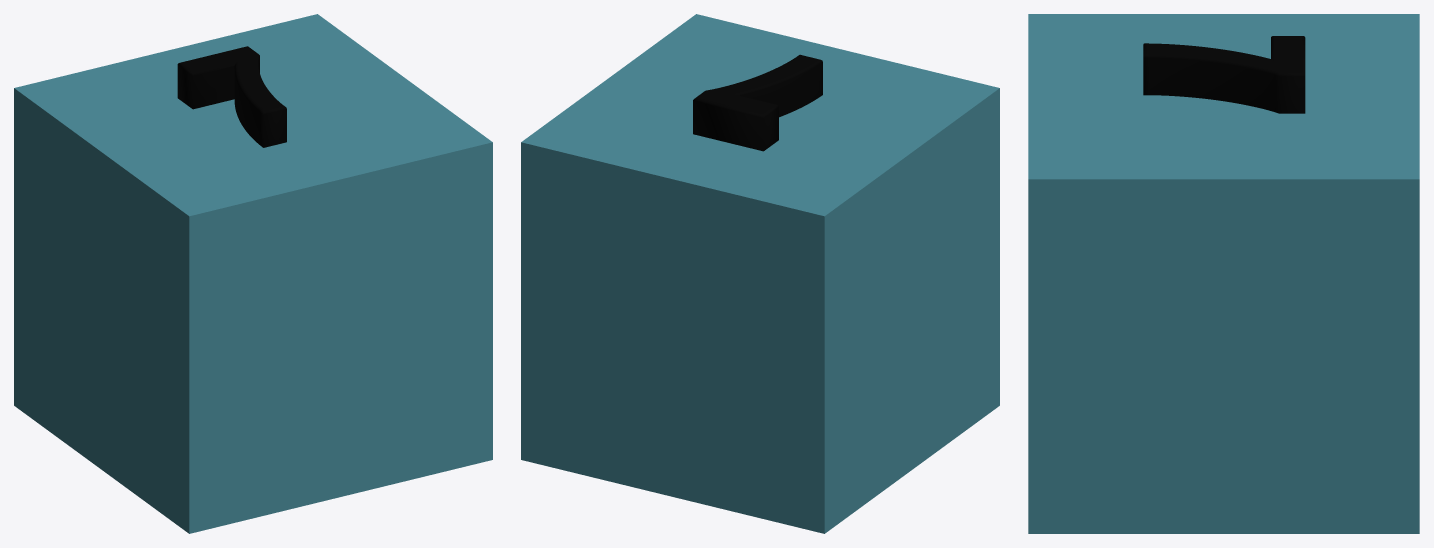
Rendered from level7.fbx.
The picture shows the model from 3 angles, left to right: view 1: azimuth 30°, elevation 25°; view 2: azimuth 150°, elevation 25°; view 3: azimuth 270°, elevation 25°; orthographic projection. The views are drawn at different scales.
Parts seen in each view (by area): view 1: Text; view 2: Text; view 3: Text.
Part boxes in pixels (x1,y1,x2,y2): Text: (14,14,492,533); Text: (521,14,999,533); Text: (1028,14,1419,533).
Size of the model in its own units: 200 by 223 by 200.
